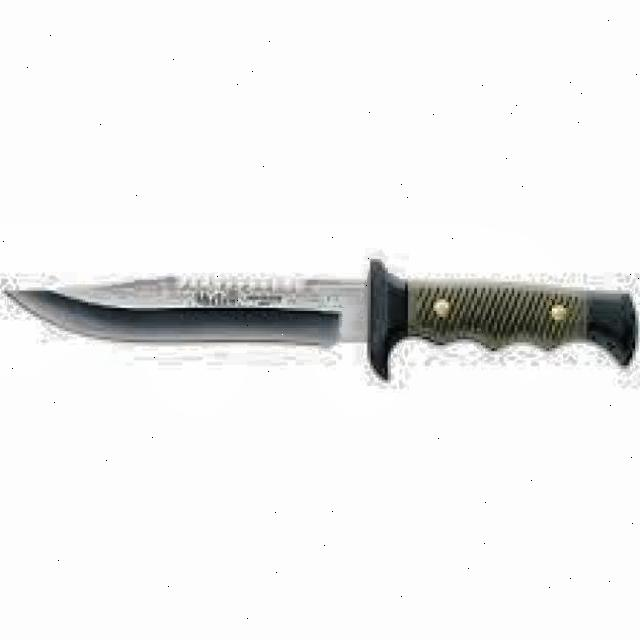knife: (0, 248, 640, 391)
